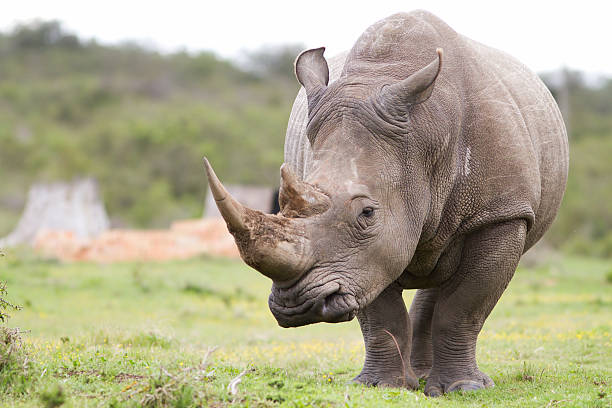rhino: (140, 38, 464, 354)
